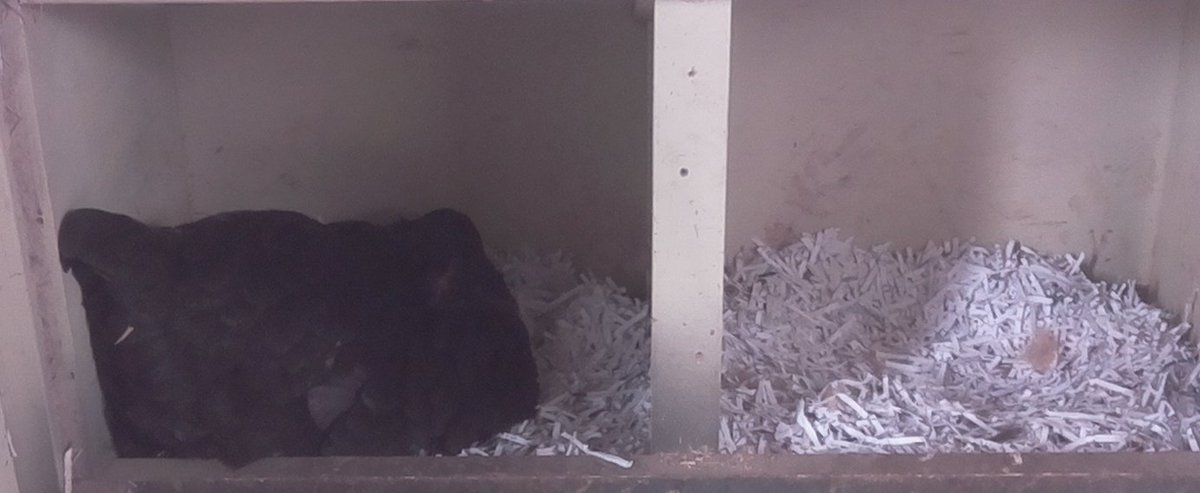hen: (48, 203, 560, 449)
